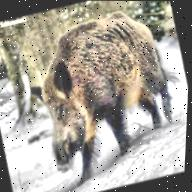boar: (11, 0, 192, 185)
